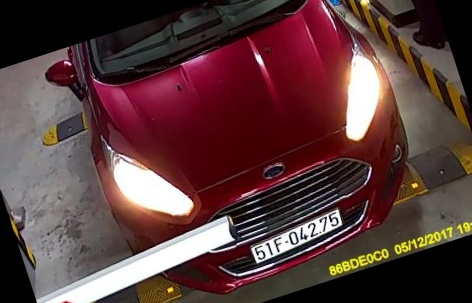plate: (243, 210, 352, 268)
